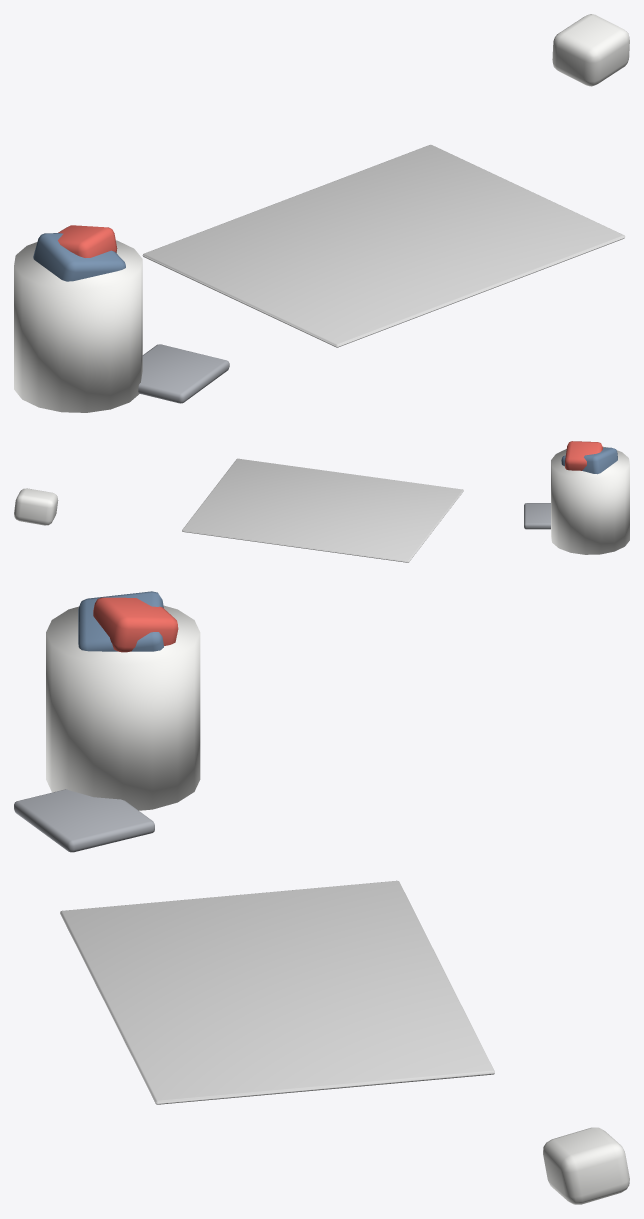
Rendered from Indo_Floor_Clutter.fbx.
3 views of the same model, one above another, from view 1: azimuth 30°, elevation 25°; view 2: azimuth 150°, elevation 25°; view 3: azimuth 270°, elevation 25° (orthographic). The views are drawn at different scales.
Visible parts, largest first — view 1: Indo_Floor_Clutter; view 2: Indo_Floor_Clutter; view 3: Indo_Floor_Clutter.
Boxes of the visible parts, box(x1,y1,x2,y2) form: Indo_Floor_Clutter: box(14, 14, 629, 412); Indo_Floor_Clutter: box(14, 441, 629, 562); Indo_Floor_Clutter: box(14, 591, 629, 1204).
Bounding box in the file's own units: 284 × 52.58 × 160.
